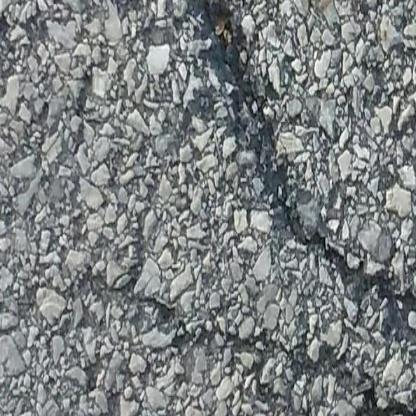Cracks: (41, 155, 416, 416), (173, 0, 416, 370)
